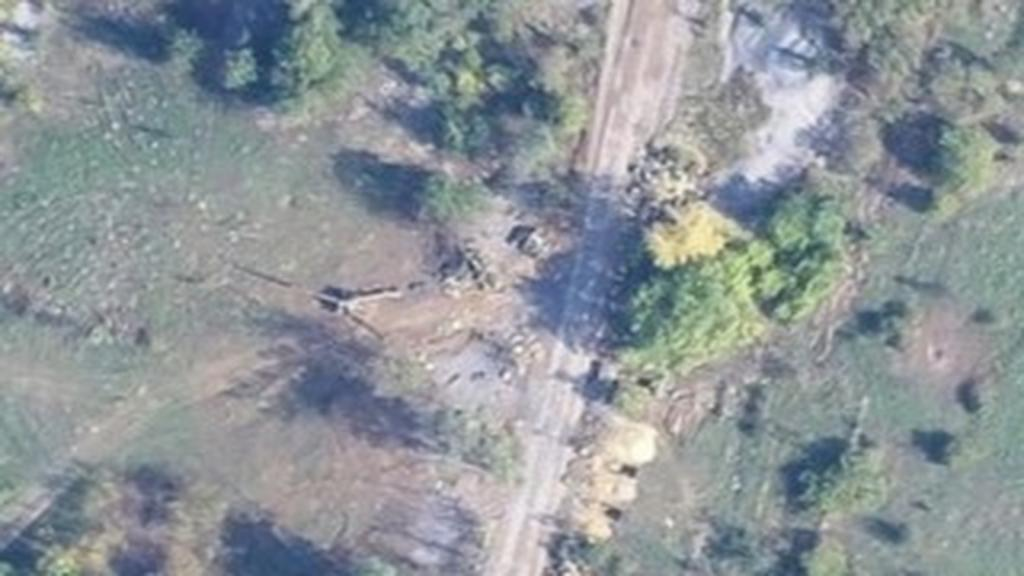ART: (274, 278, 396, 344)
